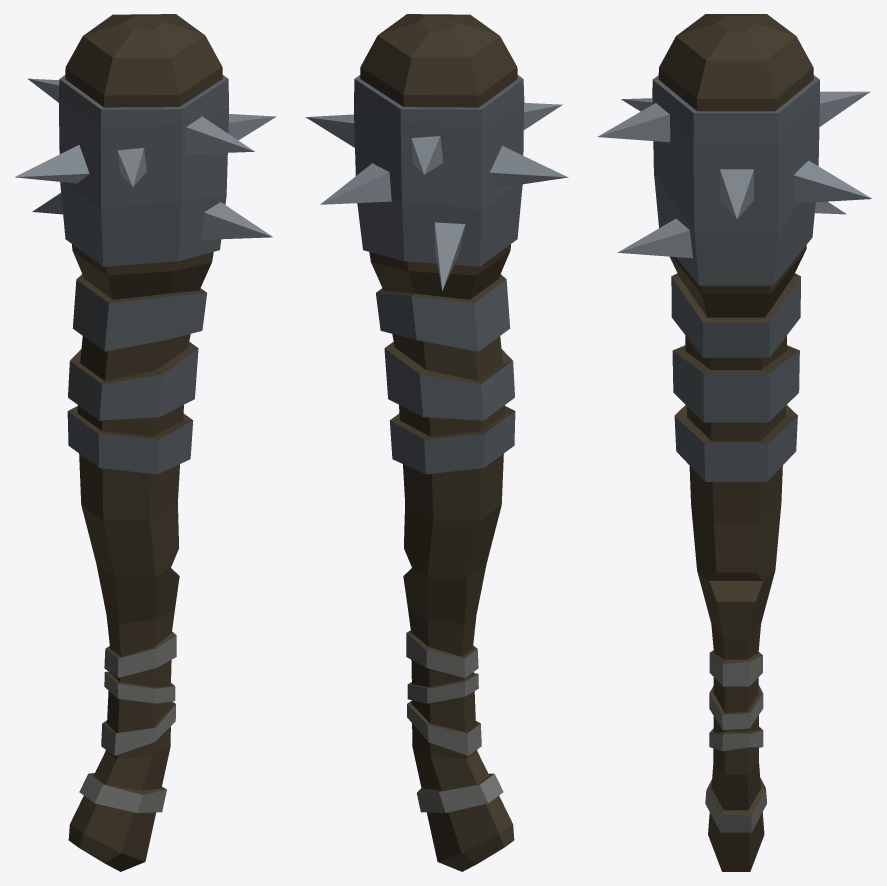
File: Club.glb
The picture shows the model from 3 angles, left to right: view 1: azimuth 30°, elevation 25°; view 2: azimuth 150°, elevation 25°; view 3: azimuth 270°, elevation 25°; orthographic projection. The views are drawn at different scales.
Visible parts, largest first — view 1: Club; view 2: Club; view 3: Club.
Boxes of the visible parts, x1,y1,x2,y2 form: Club: (14,14,276,871); Club: (305,14,568,871); Club: (597,14,872,871).
Bounding box in the file's own units: 0.2497 × 0.7606 × 0.2218.
1 material, 1 textured.
